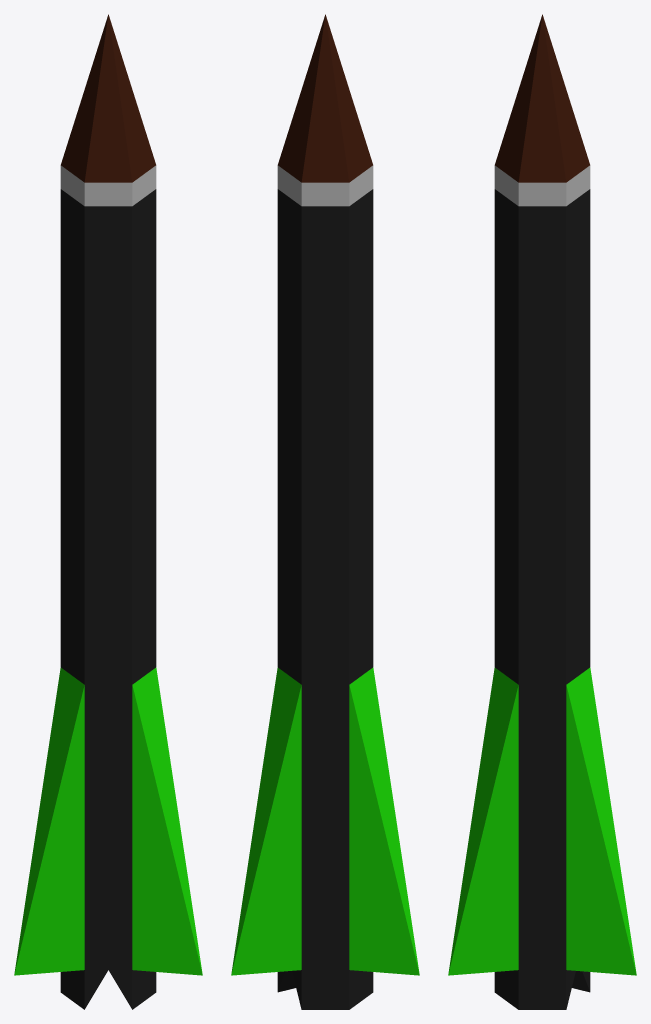
Rendered from Arrow.fbx.
3 views of the same model, side by side, from view 1: azimuth 30°, elevation 25°; view 2: azimuth 150°, elevation 25°; view 3: azimuth 270°, elevation 25° (orthographic).
Visible parts, largest first — view 1: Cylinder; view 2: Cylinder; view 3: Cylinder.
Part boxes in pixels (x1=…): Cylinder: x1=14, y1=14, x2=202, y2=1009; Cylinder: x1=231, y1=14, x2=419, y2=1009; Cylinder: x1=448, y1=14, x2=636, y2=1009.
Size of the model in its own units: 342 by 2258 by 394.
